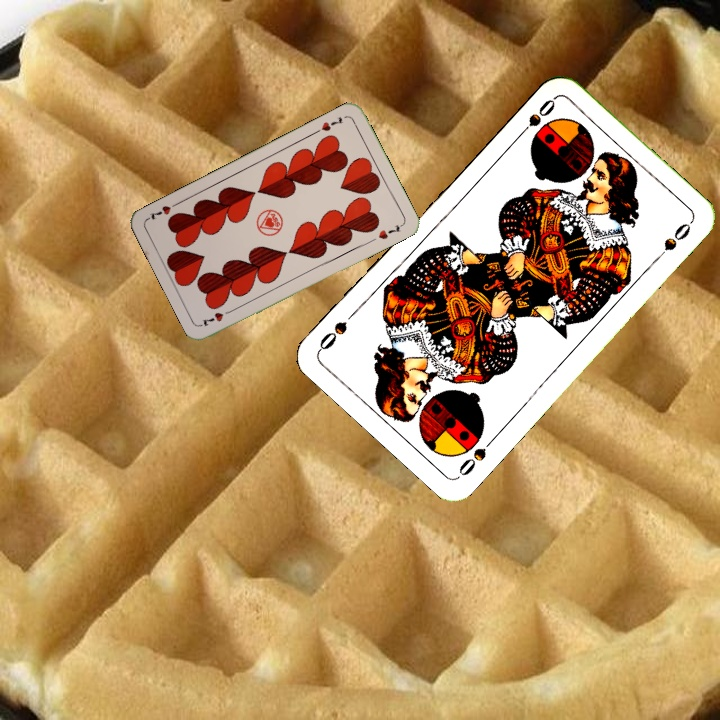H7: (198, 305, 236, 329), (311, 113, 346, 136)
SO: (454, 432, 499, 480), (513, 94, 558, 141)
